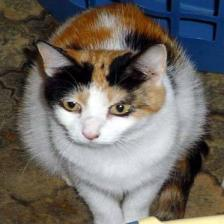cat: (35, 37, 173, 152)
